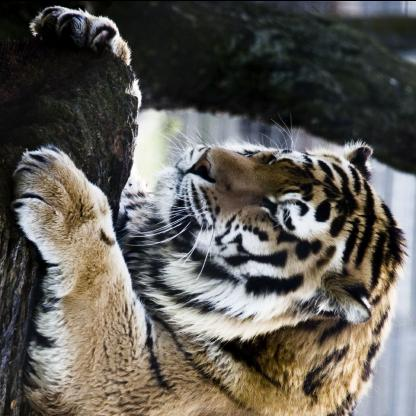tiger: (130, 104, 403, 322)
